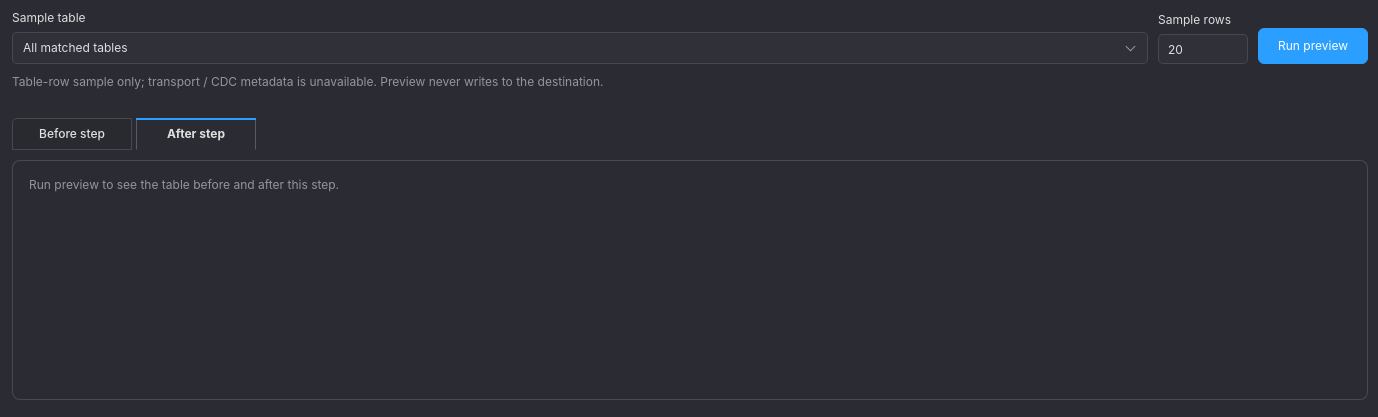
loads actual source tables and runs the prefix against a bounded typed sample
Click the button named "Sample table".
click(75, 48)  # box [12,32,1148,64]
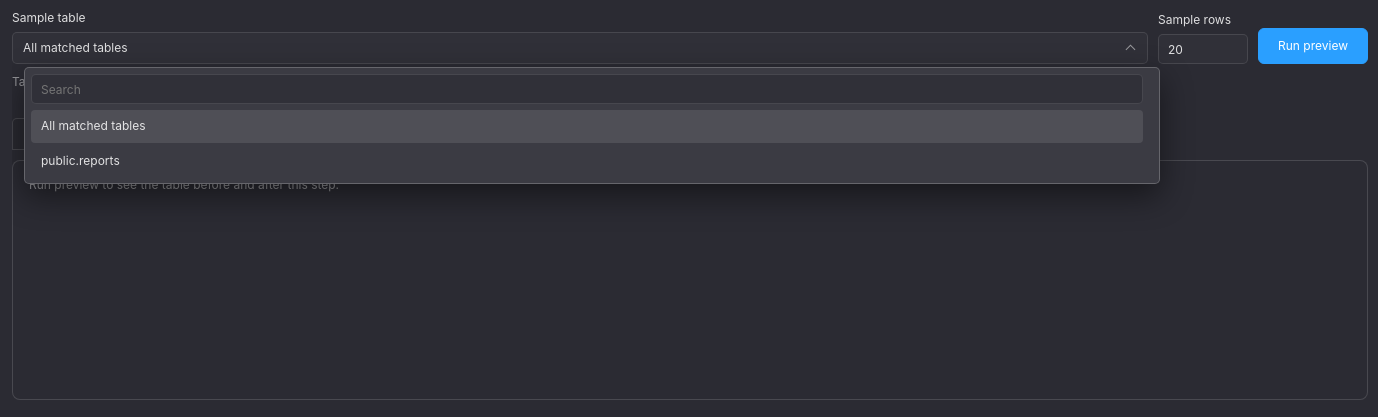
Click the option "public.reports".
click(45, 160)  # box [31,145,1143,177]
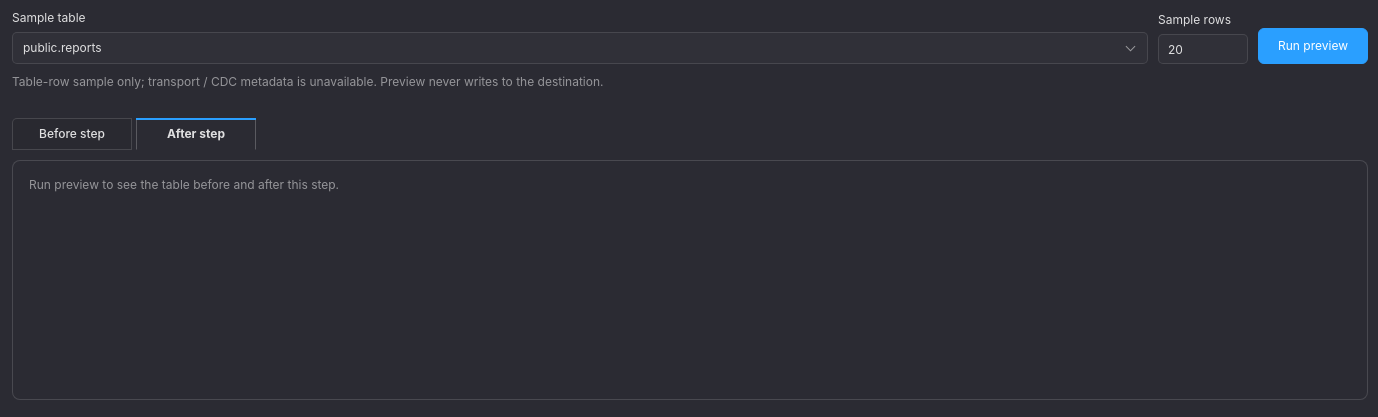
Click the button "Run preview".
click(1313, 46)  # box [1258,28,1368,64]
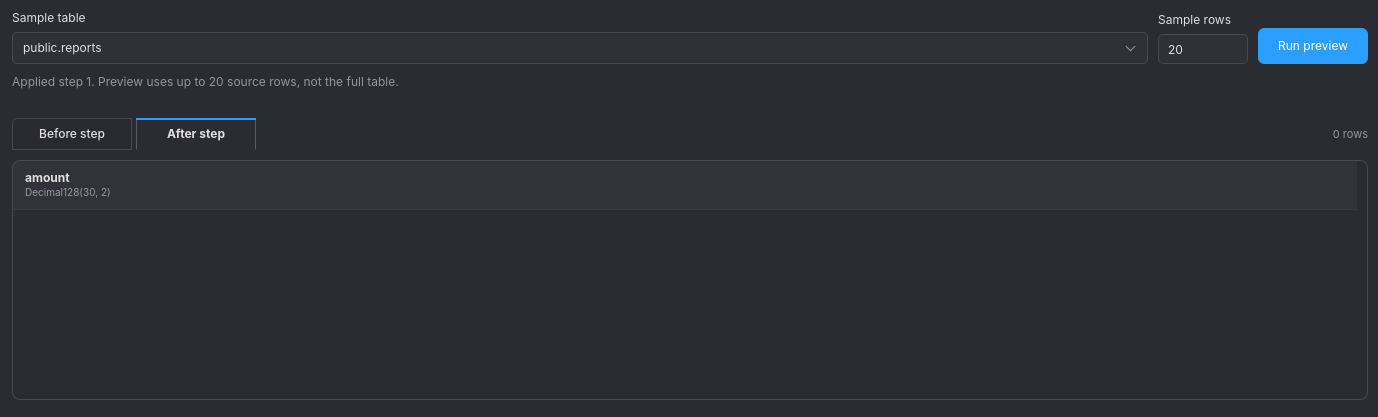
Expected: the text "0 rows" is shown, [1333,126,1368,141]
Expected: the column heading "amount" is shown, [25,170,70,185]
Expected: the text "Decimal128(30, 2)" is shown, [25,186,111,198]
Click the tab "Before step".
click(72, 134)  # box [12,118,132,150]
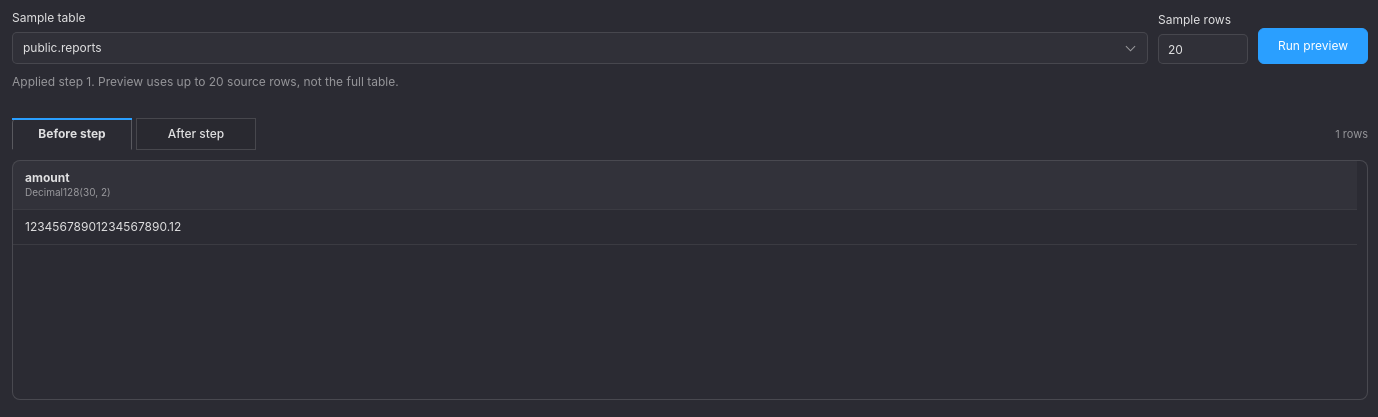
Expected: the text "12345678901234567890.12" is shown, [13,209,1357,244]
